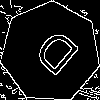D: (25, 27, 82, 85)
